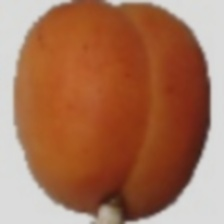apricot: (8, 21, 208, 186)
